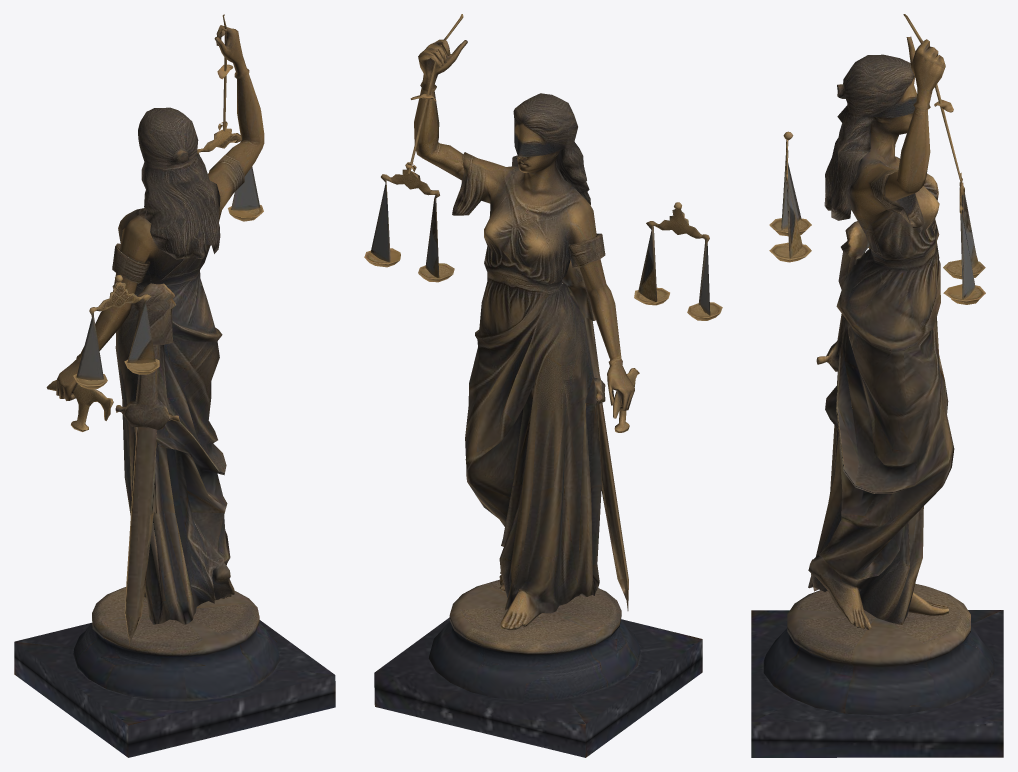
Rendered from office-justice-statue.glb.
The picture shows the model from 3 angles, left to right: view 1: azimuth 30°, elevation 25°; view 2: azimuth 150°, elevation 25°; view 3: azimuth 270°, elevation 25°; orthographic projection. The views are drawn at different scales.
Parts seen in each view (by area): view 1: justice-statue; view 2: justice-statue; view 3: justice-statue.
Part boxes in pixels (bbox=[...]): justice-statue: bbox=[14, 14, 335, 757]; justice-statue: bbox=[364, 14, 722, 757]; justice-statue: bbox=[751, 14, 1003, 757].
Bounding box in the file's own units: 0.7233 × 1.7 × 0.5388.
Materials: 1 (1 with a texture image).
